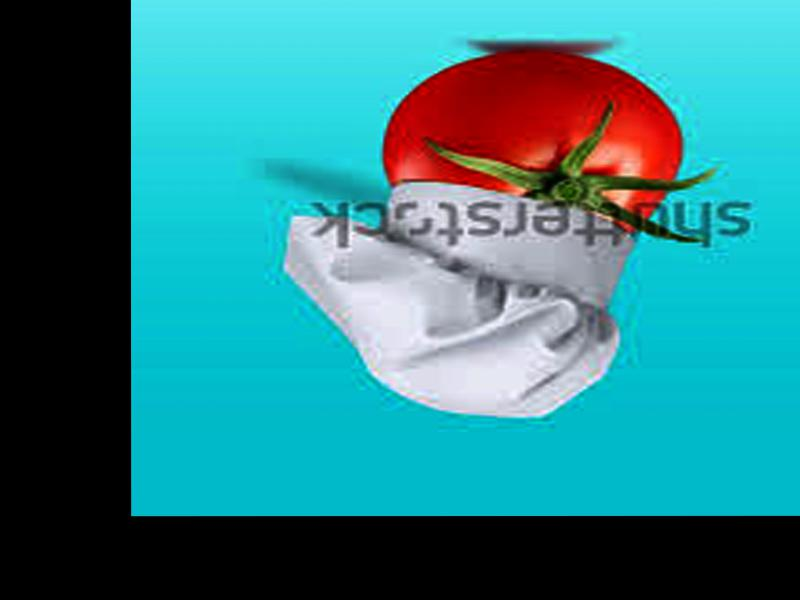Tomato: (383, 54, 677, 233)
